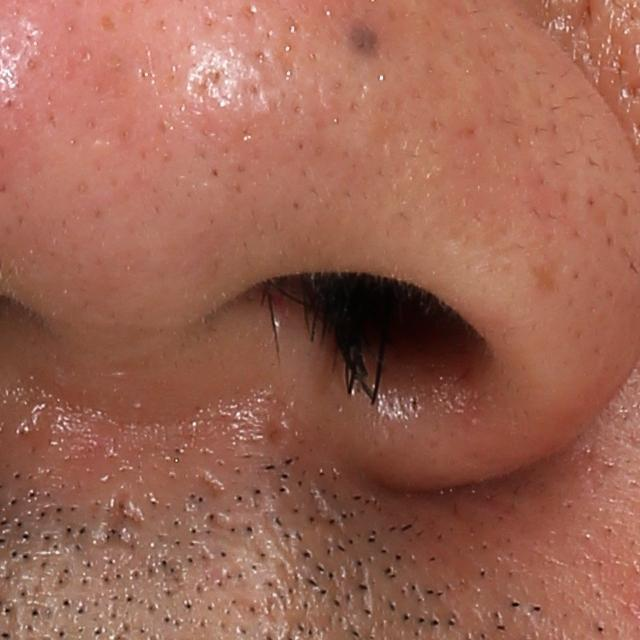atrophic_scar: (106, 495, 149, 543), (191, 472, 220, 501)
